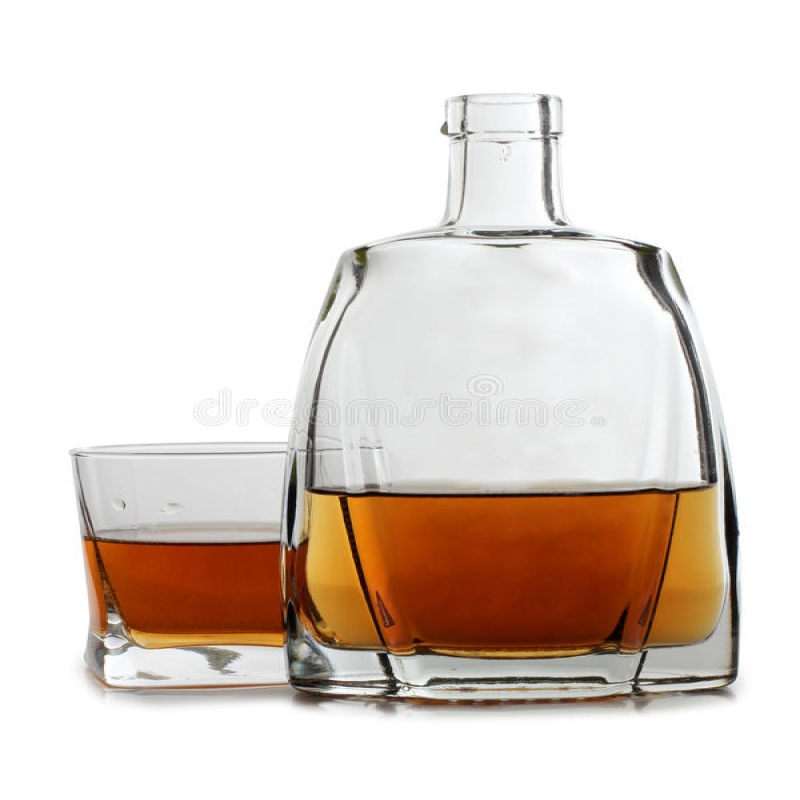whiskey: (62, 446, 286, 689)
